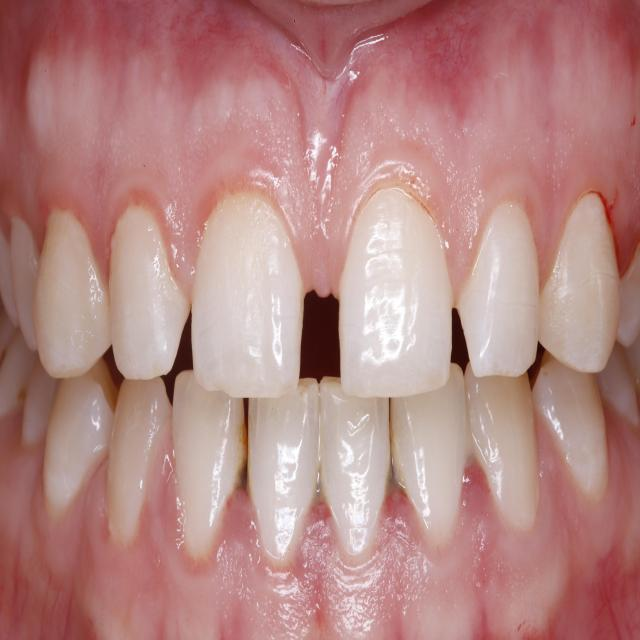tooth: (339, 186, 452, 397), (191, 191, 305, 399), (538, 192, 621, 373), (109, 203, 191, 380), (458, 202, 539, 378), (172, 369, 248, 555), (390, 361, 467, 542), (32, 209, 112, 378), (319, 376, 392, 554), (247, 378, 319, 557), (464, 361, 539, 529), (531, 349, 609, 502), (44, 357, 119, 512), (107, 375, 173, 541), (10, 218, 40, 351), (0, 326, 39, 419), (596, 340, 639, 424), (21, 358, 60, 448), (616, 241, 640, 348)
